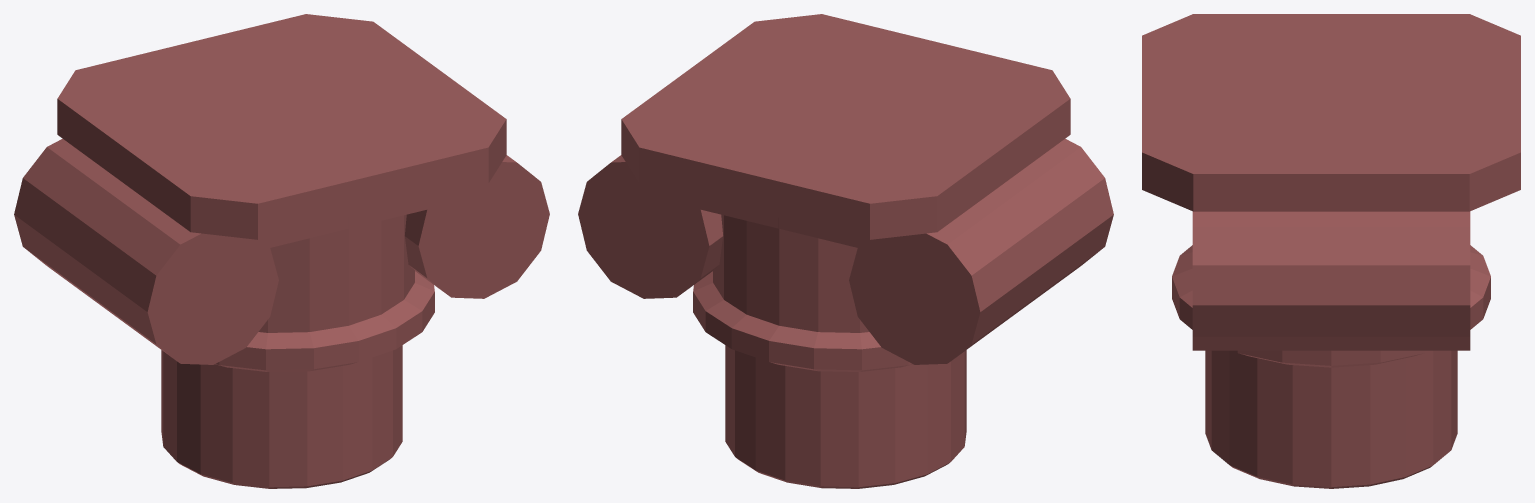
The model's file is colon2_top.fbx.
The picture shows the model from 3 angles, left to right: view 1: azimuth 30°, elevation 25°; view 2: azimuth 150°, elevation 25°; view 3: azimuth 270°, elevation 25°; orthographic projection. The views are drawn at different scales.
Visible parts, largest first — view 1: polySurface2; view 2: polySurface2; view 3: polySurface2.
Boxes of the visible parts, box(x1,y1,x2,y2) form: polySurface2: box(14, 14, 549, 488); polySurface2: box(578, 14, 1113, 488); polySurface2: box(1142, 14, 1520, 488).
Size of the model in its own units: 1.27 by 1 by 1.
